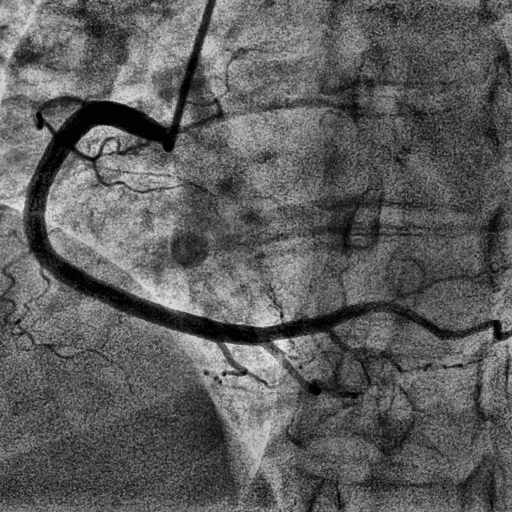pborca: (264, 302, 511, 340)
pda: (262, 341, 320, 394)
rca: (24, 101, 262, 345)
